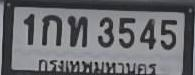1: (23, 13, 34, 44)
3: (97, 16, 114, 48)
4: (139, 18, 157, 50)
5: (118, 17, 136, 49), (160, 18, 177, 49)
A01: (41, 14, 63, 47)
A23: (67, 15, 88, 48)
BKK: (34, 54, 160, 75)
